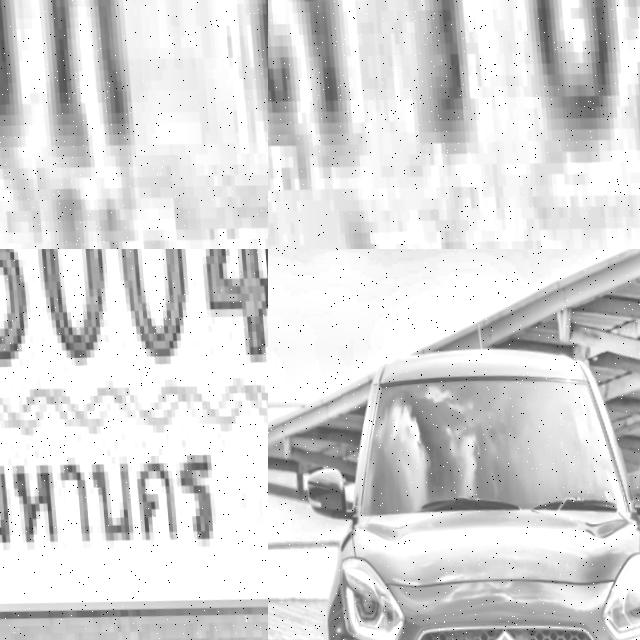license-plate: (0, 249, 268, 640), (268, 0, 640, 249), (0, 0, 268, 249)
